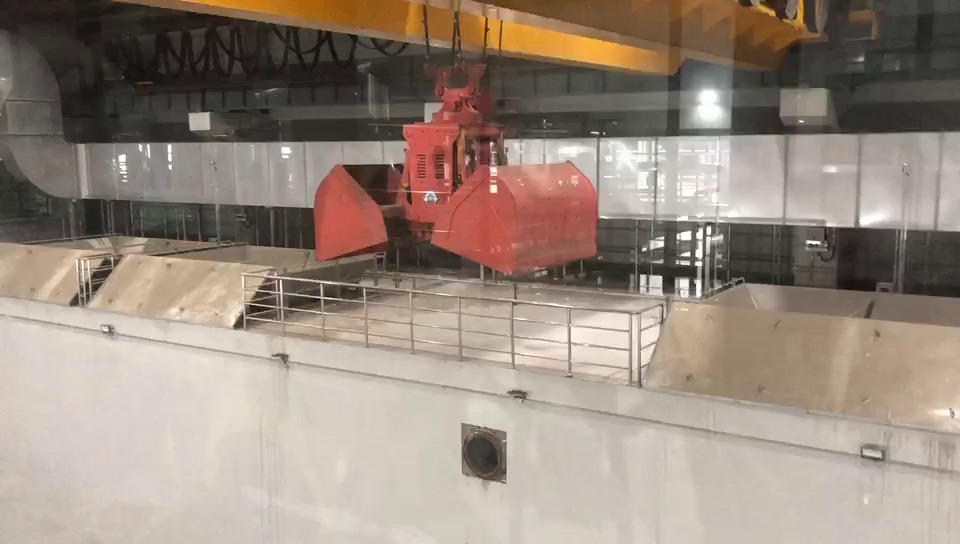grab: (310, 38, 602, 276)
